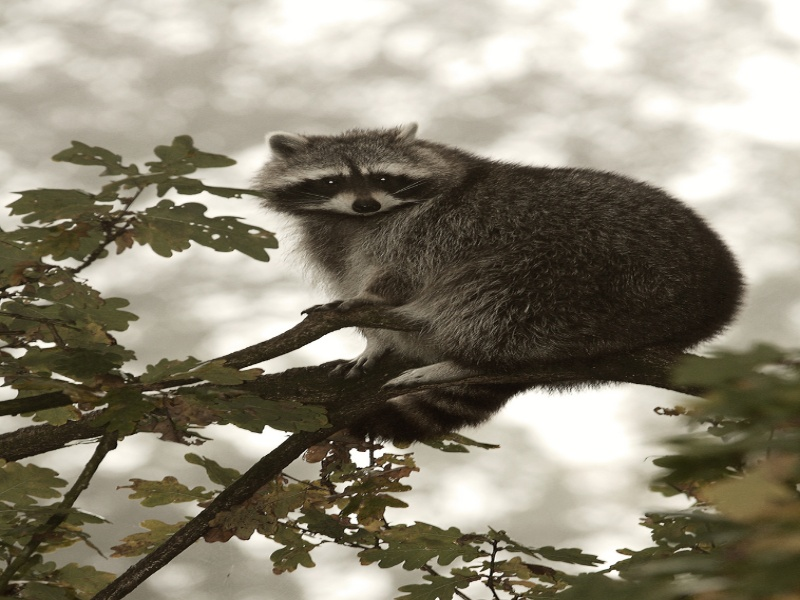raccoon: (255, 120, 746, 415)
